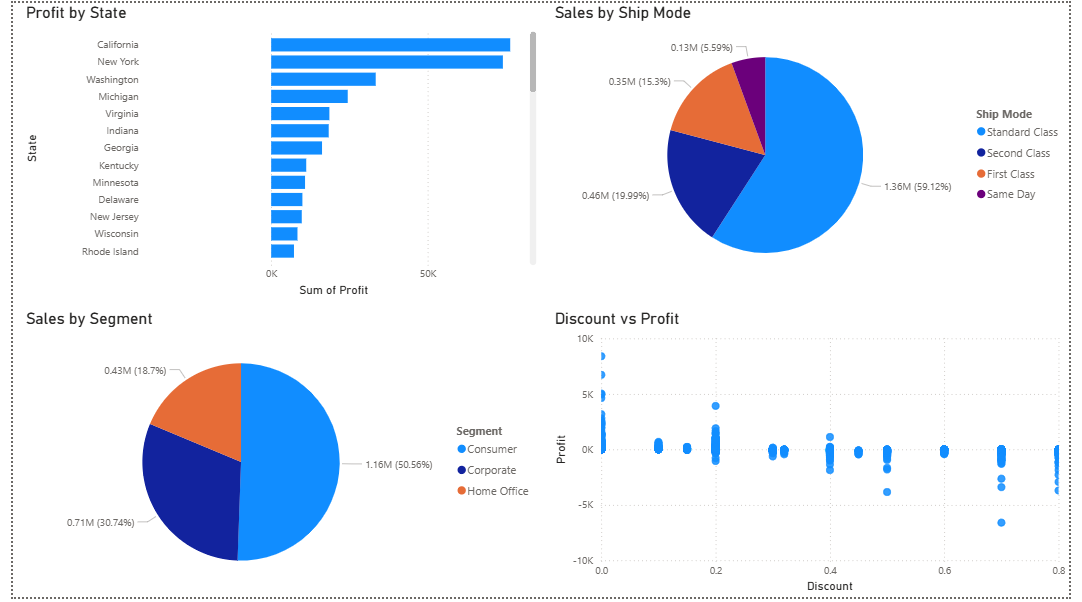

The page's visual inventory and layout, read from the dashboard file:
{"tool":"powerbi","page":{"name":"Page 3","canvas":[1280,720],"ordinal":2},"visuals":[{"type":"clusteredBarChart","title":"Profit by State","fields":{"Category":["Sample_ Superstore (2).State"],"Y":["Sum(Sample_ Superstore (2).Profit)"]},"box":[11,0,629,360.7],"z":0},{"type":"pieChart","title":"Sales by Ship Mode","fields":{"Category":["Sample_ Superstore (2).Ship Mode"],"Y":["Sum(Sample_ Superstore (2).Sales)"]},"box":[651,0,629,347.5],"z":1},{"type":"pieChart","title":"Sales by Segment","fields":{"Category":["Sample_ Superstore (2).Segment"],"Y":["Sum(Sample_ Superstore (2).Sales)"]},"box":[11,371,629,349],"z":2},{"type":"scatterChart","title":"Discount vs Profit","fields":{"X":["Sample_ Superstore (2).Discount"],"Y":["Sample_ Superstore (2).Profit"]},"box":[651.6,371,629,348.4],"z":3}]}

Visuals, with their boxes in screenshot pixels (x1, y1, x2, y2), scaled from the page's 1280x720 canvas onto the 1082x602 screenshot:
"Profit by State" clusteredBarChart: locate(9, 0, 541, 302)
"Sales by Ship Mode" pieChart: locate(550, 0, 1081, 291)
"Sales by Segment" pieChart: locate(9, 310, 541, 601)
"Discount vs Profit" scatterChart: locate(551, 310, 1081, 601)
